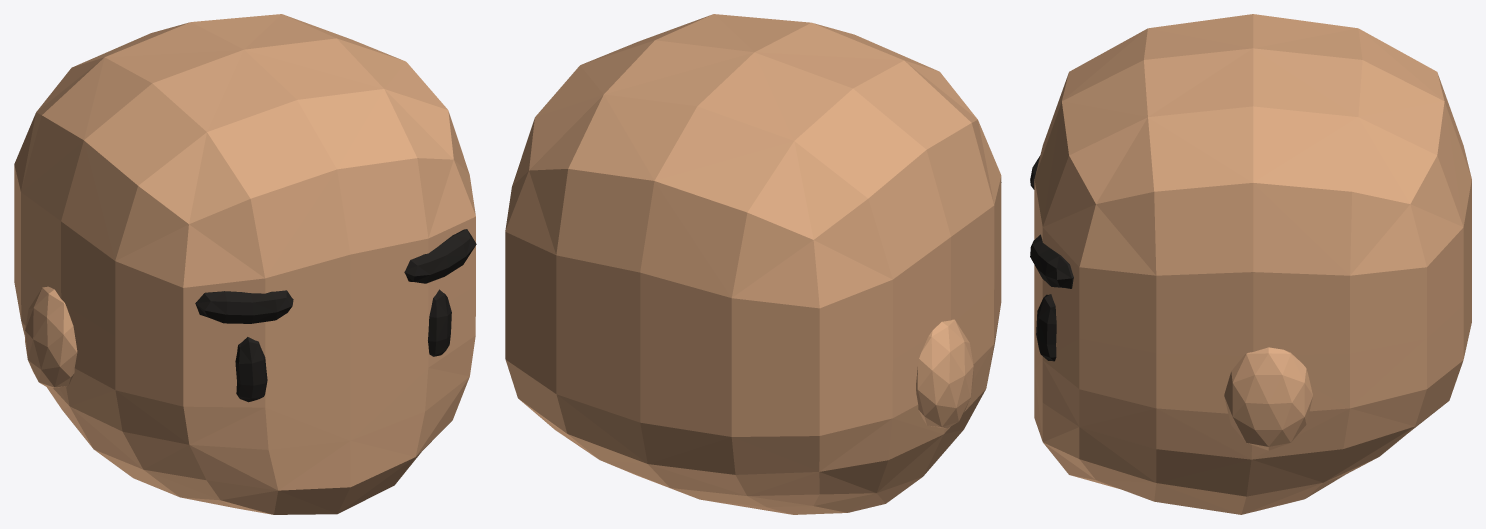
The model's file is cabeza-calva.obj.
The picture shows the model from 3 angles, left to right: view 1: azimuth 30°, elevation 25°; view 2: azimuth 150°, elevation 25°; view 3: azimuth 270°, elevation 25°; orthographic projection. The views are drawn at different scales.
Parts seen in each view (by area): view 1: Cabeza, Ojos_Cejas; view 2: Cabeza; view 3: Cabeza, Ojos_Cejas.
Boxes of the visible parts, bbox=[...] form: Cabeza: bbox=[14, 14, 475, 514]; Ojos_Cejas: bbox=[195, 229, 476, 402]; Cabeza: bbox=[505, 14, 1001, 514]; Cabeza: bbox=[1034, 14, 1471, 514]; Ojos_Cejas: bbox=[1030, 155, 1073, 361].
Size of the model in its own units: 1.09 by 1.06 by 0.9931.
